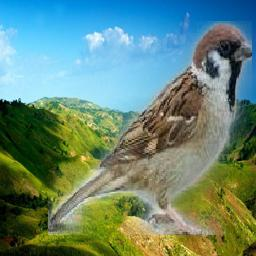Sparrow: (48, 21, 252, 235)
